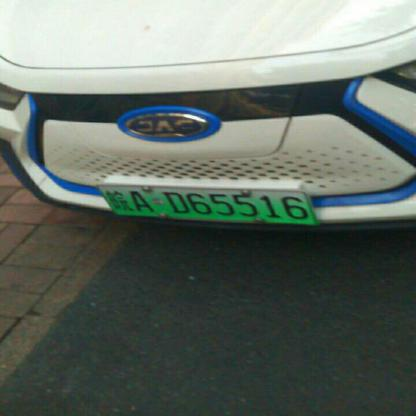lp: (98, 185, 316, 223)
